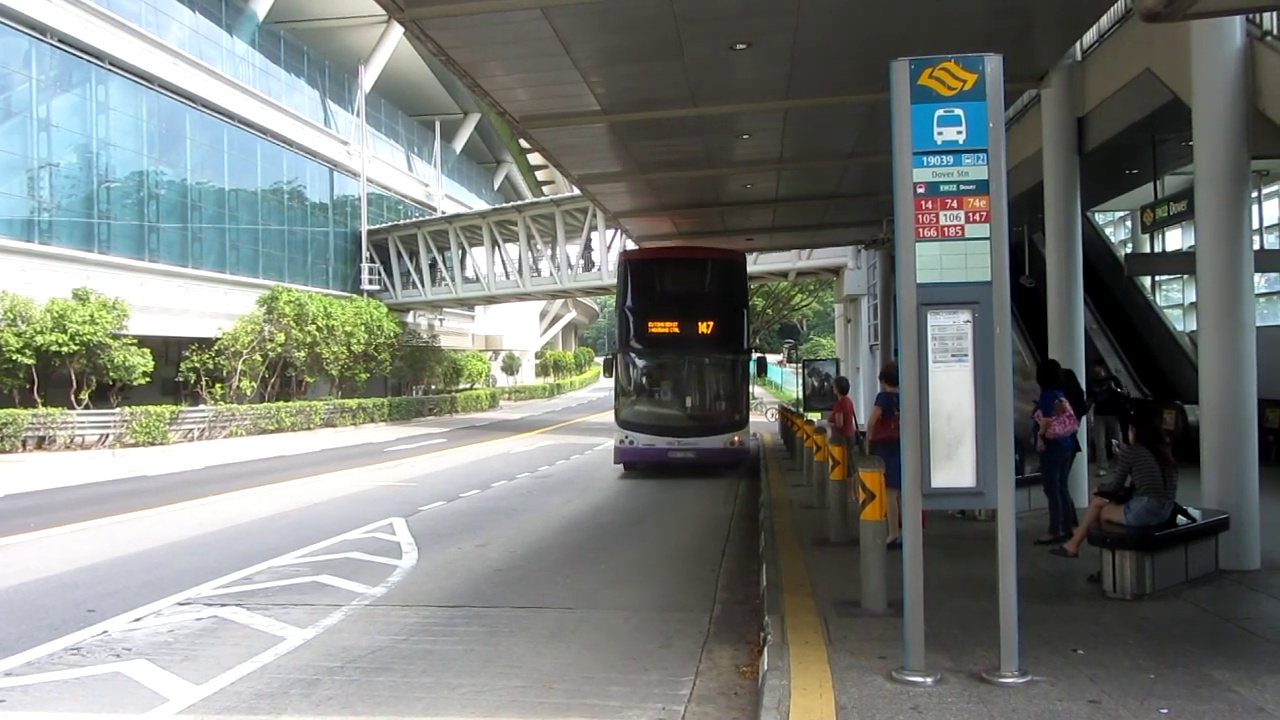bus panel: (646, 319, 717, 337)
